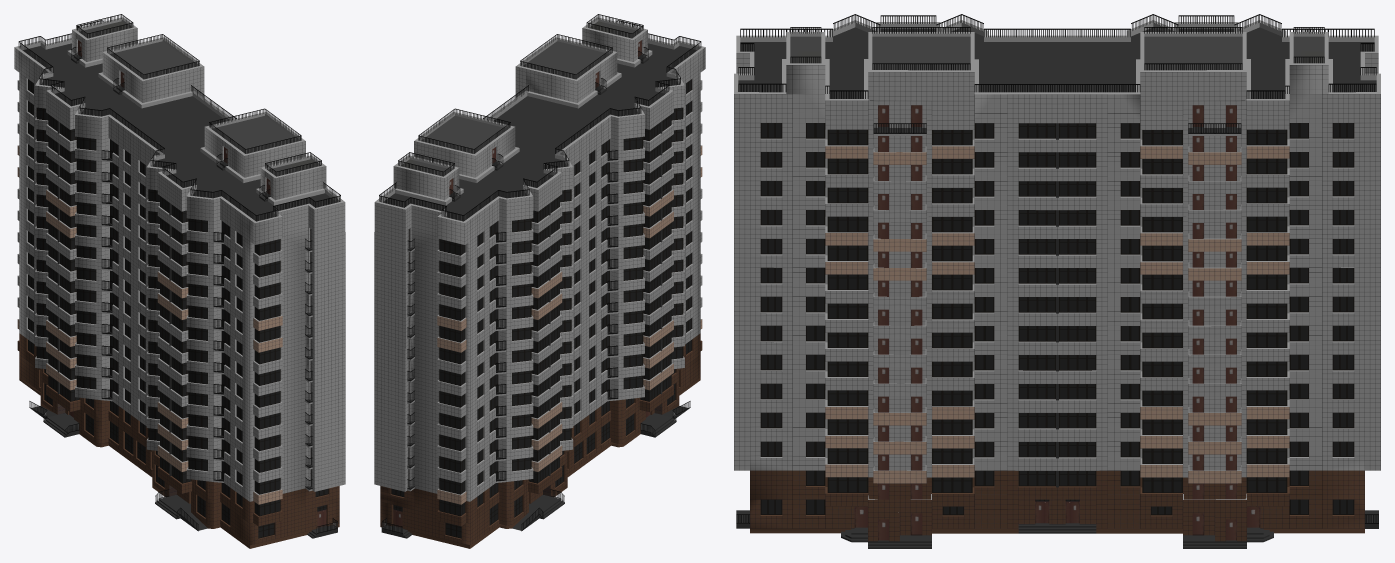
The model's file is house_moscow_res2.glb.
The picture shows the model from 3 angles, left to right: view 1: azimuth 30°, elevation 25°; view 2: azimuth 150°, elevation 25°; view 3: azimuth 270°, elevation 25°; orthographic projection. The views are drawn at different scales.
Parts seen in each view (by area): view 1: 12fl_Material #25_0; view 2: 12fl_Material #25_0; view 3: 12fl_Material #25_0.
Boxes of the visible parts, left/top/right/bottom form: 12fl_Material #25_0: left=14, top=14, right=345, bottom=548; 12fl_Material #25_0: left=374, top=14, right=705, bottom=548; 12fl_Material #25_0: left=734, top=14, right=1380, bottom=548.
Bounding box in the file's own units: 20.06 × 49.2 × 60.71.
Materials: 1 (1 with a texture image).
